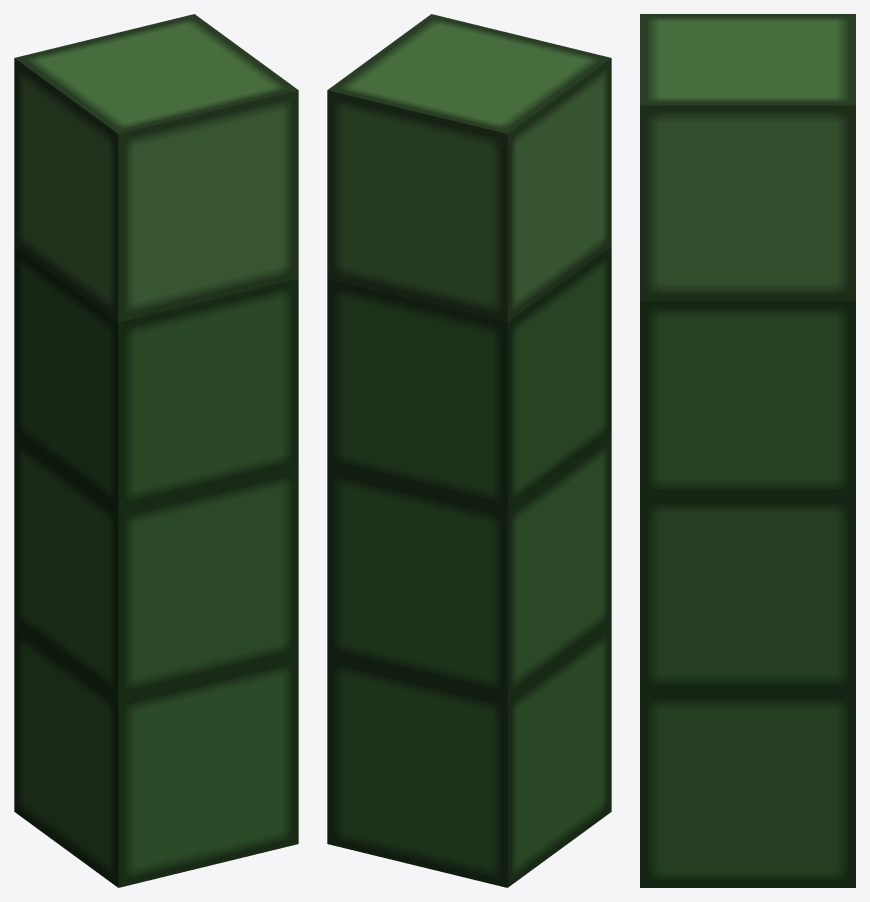
The model's file is bottle_green.glb.
The picture shows the model from 3 angles, left to right: view 1: azimuth 30°, elevation 25°; view 2: azimuth 150°, elevation 25°; view 3: azimuth 270°, elevation 25°; orthographic projection. The views are drawn at different scales.
Parts seen in each view (by area): view 1: bottle_green; view 2: bottle_green; view 3: bottle_green.
Part boxes in pixels (x1,y1,x2,y2): bottle_green: [14, 14, 298, 887]; bottle_green: [327, 14, 611, 887]; bottle_green: [640, 14, 855, 887].
Size of the model in its own units: 0.05 by 0.2 by 0.05.
2 materials, 2 textured.
